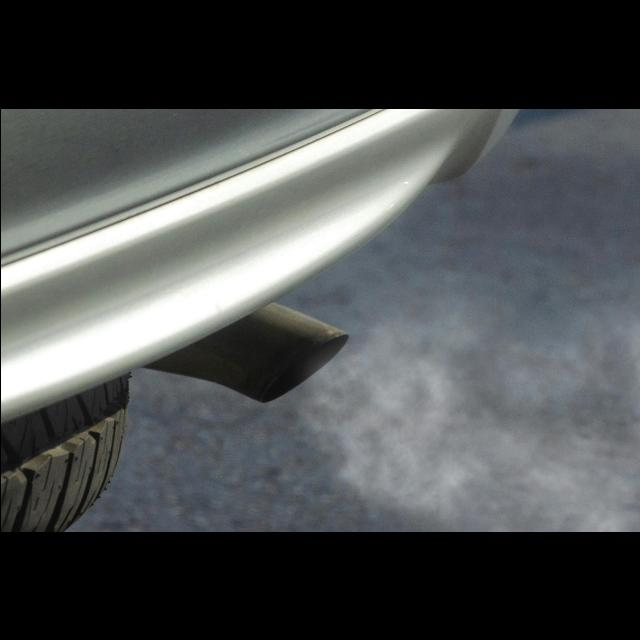smoke: (342, 334, 640, 532)
